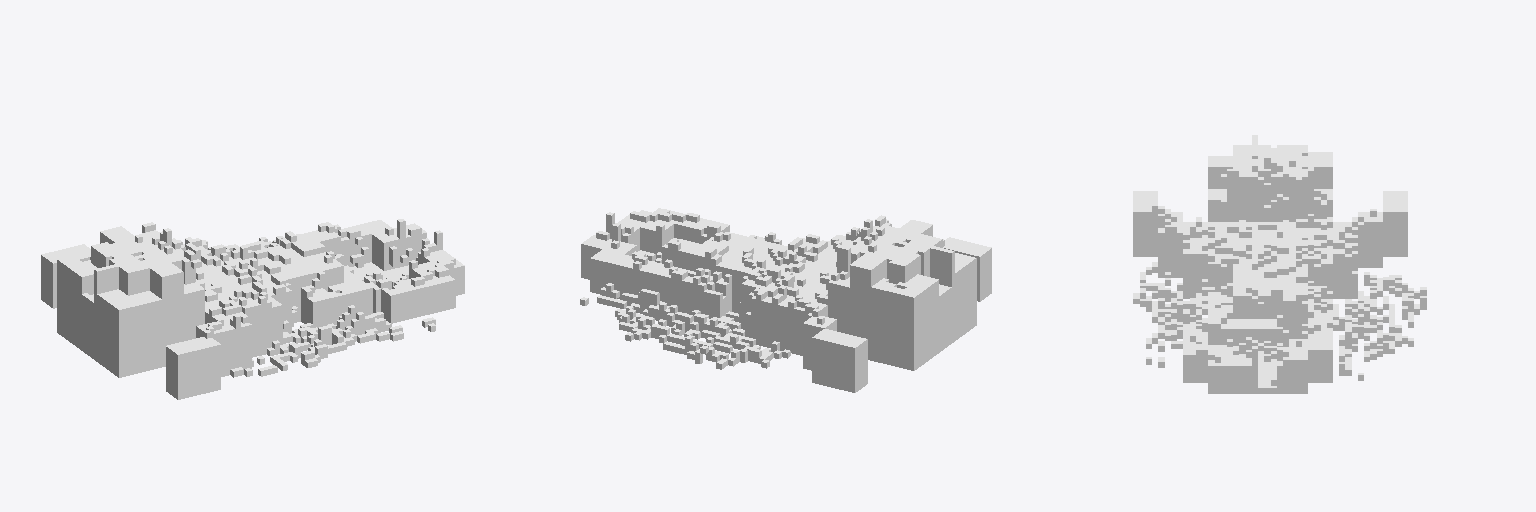
The model's file is corpse.obj.
The picture shows the model from 3 angles: view 1: azimuth 30°, elevation 25°; view 2: azimuth 150°, elevation 25°; view 3: azimuth 270°, elevation 25°; orthographic projection.
Bounding box in the file's own units: 64 × 19 × 47.